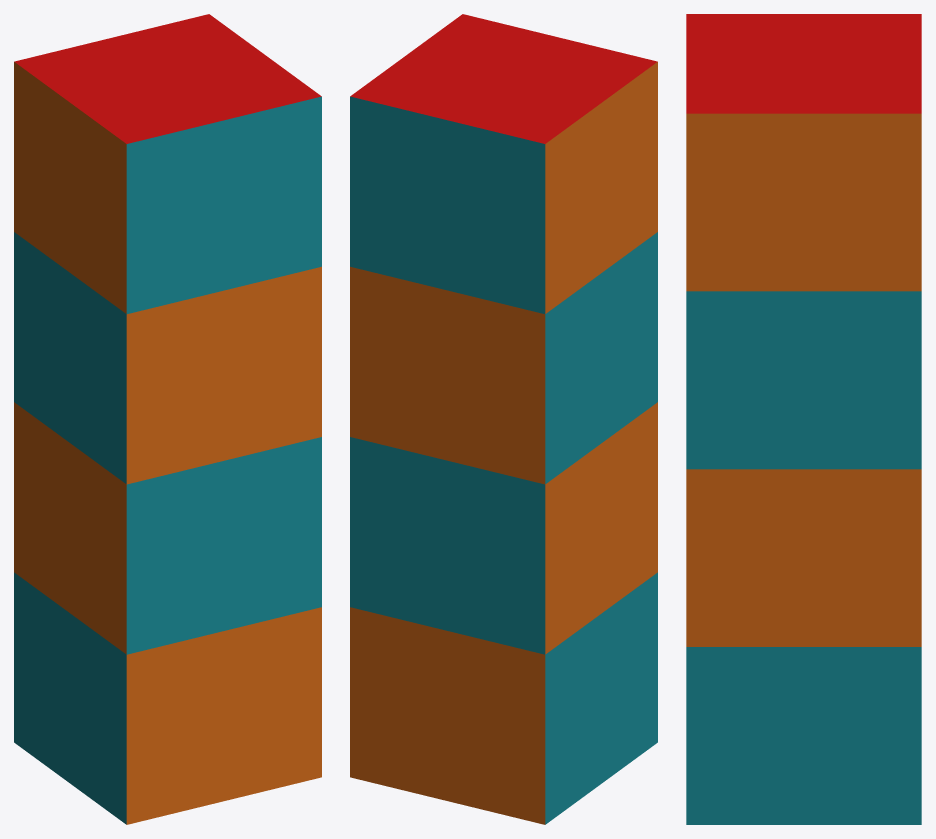
File: column.obj
The picture shows the model from 3 angles, left to right: view 1: azimuth 30°, elevation 25°; view 2: azimuth 150°, elevation 25°; view 3: azimuth 270°, elevation 25°; orthographic projection. The views are drawn at different scales.
Visible parts, largest first — view 1: Column; view 2: Column; view 3: Column.
Boxes of the visible parts, x1,y1,x2,y2 form: Column: (14,14,321,824); Column: (350,14,657,824); Column: (686,14,921,824).
Size of the model in its own units: 0.6 by 2 by 0.6.
Materials: 2 (1 with a texture image).
